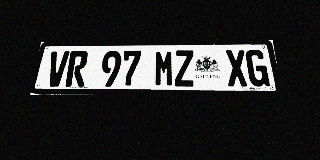7: (120, 51, 141, 87)
9: (100, 51, 122, 87)
G: (245, 50, 270, 86)
M: (154, 50, 174, 87)
R: (65, 51, 89, 87)
V: (45, 51, 70, 87)
X: (225, 50, 249, 87)
Z: (174, 50, 195, 87)
